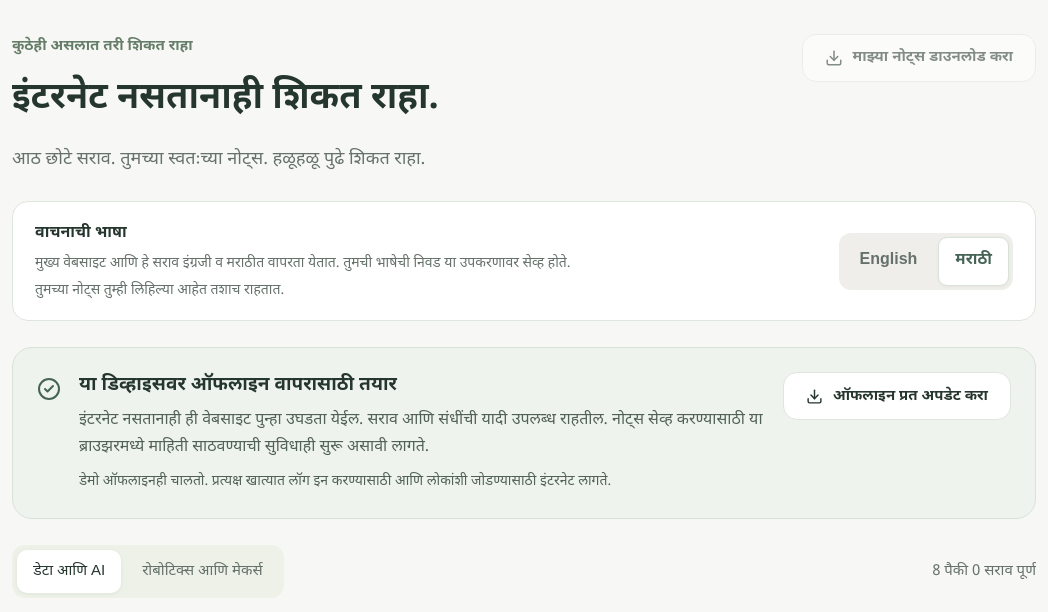
Test case: bilingual offline learning › restores the saved reading language and still switches when preference storage fails
This screenshot has width=1048, height=612.
Click the button "English".
click(888, 261)  # box [843,237,934,286]
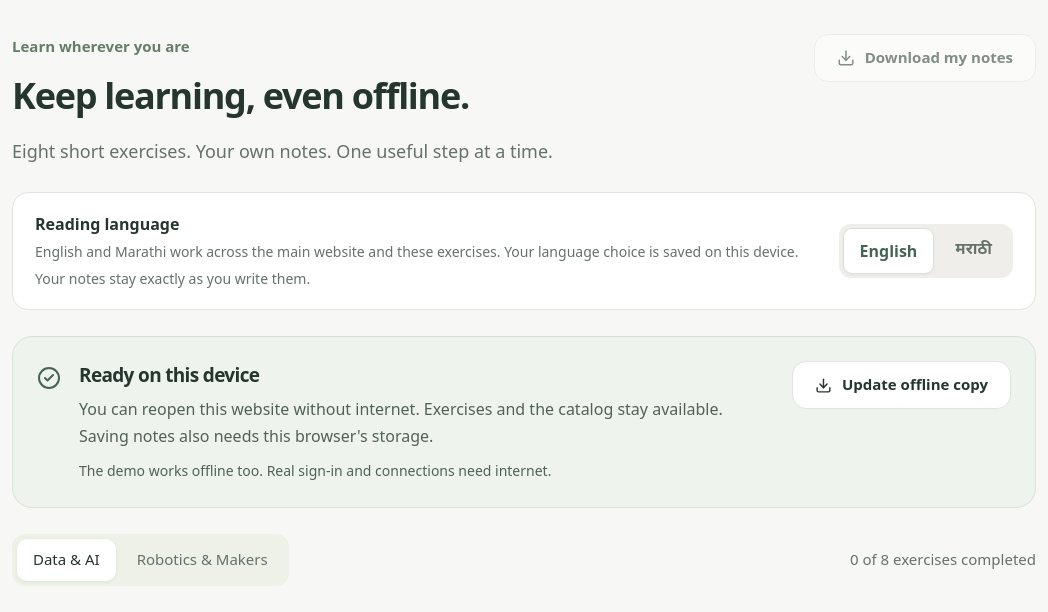
Result: the text "English and Marathi work across the main website" is shown at [35,242,798,262]
